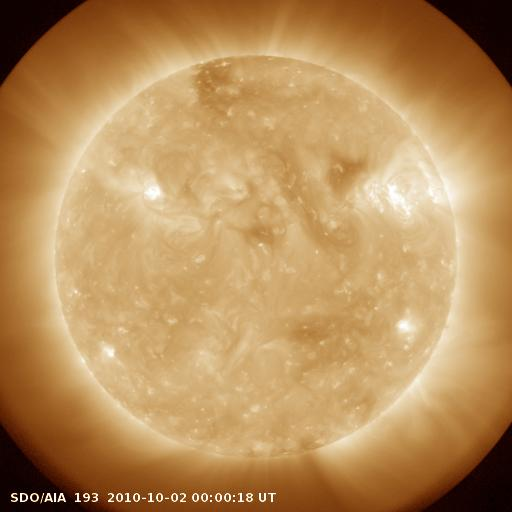coronal_hole: (188, 52, 242, 115), (320, 146, 371, 200)
